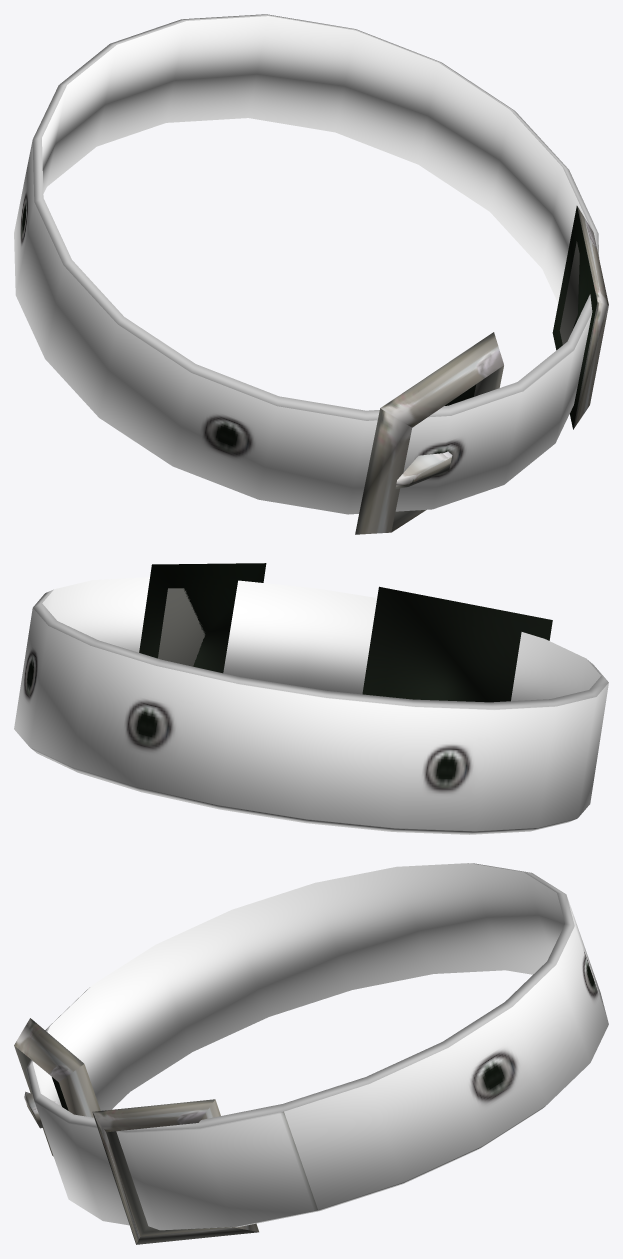
File: collar 1.fbx
The picture shows the model from 3 angles, top to bottom: view 1: azimuth 30°, elevation 25°; view 2: azimuth 150°, elevation 25°; view 3: azimuth 270°, elevation 25°; orthographic projection. The views are drawn at different scales.
Parts seen in each view (by area): view 1: カスタム少女_mesh; view 2: カスタム少女_mesh; view 3: カスタム少女_mesh.
Part boxes in pixels (x1,y1,x2,y2): カスタム少女_mesh: [14, 14, 608, 534]; カスタム少女_mesh: [14, 563, 608, 834]; カスタム少女_mesh: [14, 863, 608, 1244].
Bounding box in the file's own units: 9.8 × 5.66 × 11.28.
Materials: 1 (1 with a texture image).
